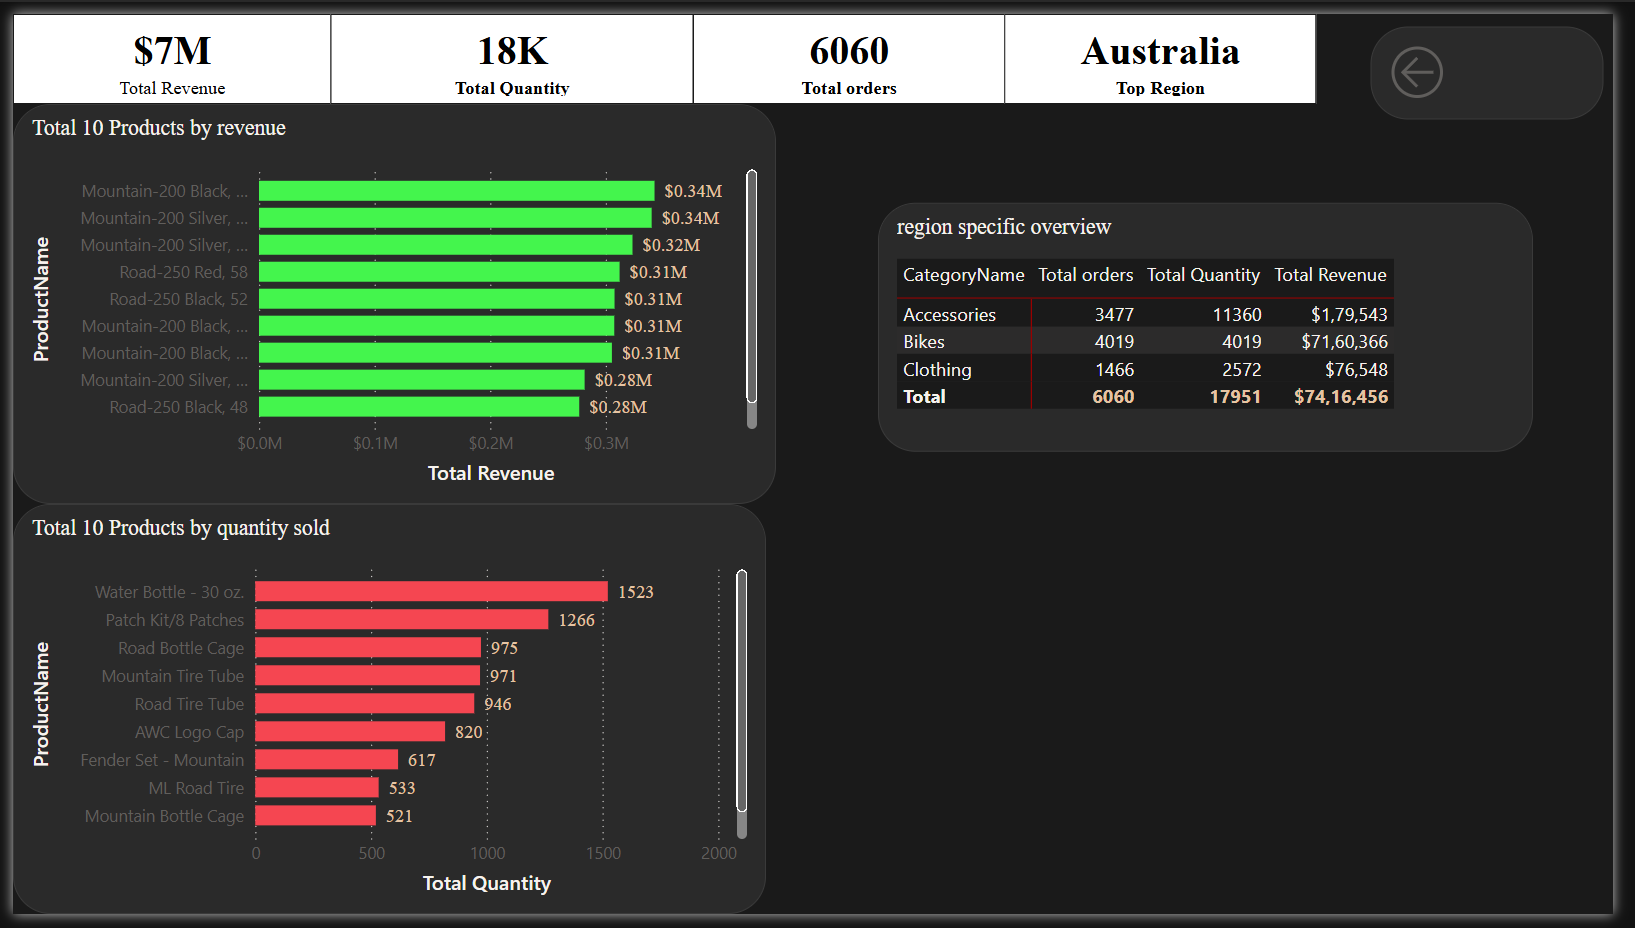

The dashboard page shown, as its layout file describes it:
{"tool":"powerbi","page":{"name":"Region_detail","canvas":[1280,720],"ordinal":3},"visuals":[{"type":"actionButton","box":[1085.6,10,186.7,74.4],"z":0},{"type":"card","fields":{"Values":["sales.Total Revenue"]},"box":[0,0,254.4,72.2],"z":1},{"type":"card","fields":{"Values":["sales.Total_Order_Quantity"]},"box":[254.4,0,290,72.2],"z":2},{"type":"card","fields":{"Values":["sales.Total orders"]},"box":[544.4,0,248.9,72.2],"z":3},{"type":"card","fields":{"Values":["Territory.Top Region"]},"box":[793.3,0,248.9,72.2],"z":4},{"type":"clusteredBarChart","title":"Total 10 Products by revenue","fields":{"Category":["Product.ProductName"],"Y":["sales.Total Revenue"]},"box":[0,72.2,610,320],"z":5},{"type":"clusteredBarChart","title":"Total 10 Products by quantity sold","fields":{"Y":["sales.Total Quantity"],"Category":["Product.ProductName"]},"box":[0,392.2,602.2,327.8],"z":6},{"type":"pivotTable","title":"region specific overview","fields":{"Rows":["Product.CategoryName"],"Values":["sales.Total orders","sales.Total Quantity","sales.Total Revenue"]},"box":[692,151,524.4,198.9],"z":7}]}

Visuals, with their boxes in screenshot pixels (x1, y1, x2, y2), scaled from the page's 1280x720 canvas onto the 1635x928 screenshot:
actionButton: (1387, 13, 1625, 109)
card - sales.Total Revenue: (0, 0, 325, 93)
card - sales.Total_Order_Quantity: (325, 0, 695, 93)
card - sales.Total orders: (695, 0, 1013, 93)
card - Territory.Top Region: (1013, 0, 1331, 93)
"Total 10 Products by revenue" clusteredBarChart: (0, 93, 779, 506)
"Total 10 Products by quantity sold" clusteredBarChart: (0, 506, 769, 927)
"region specific overview" pivotTable: (884, 195, 1554, 451)
